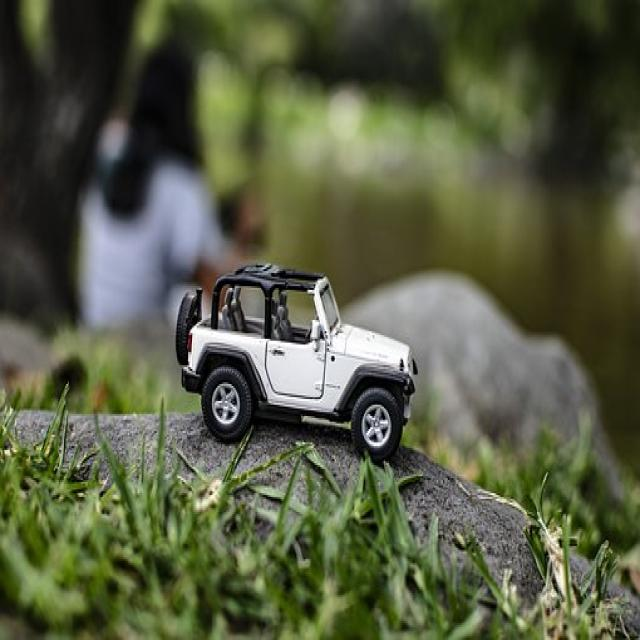Car: (174, 260, 418, 463)
